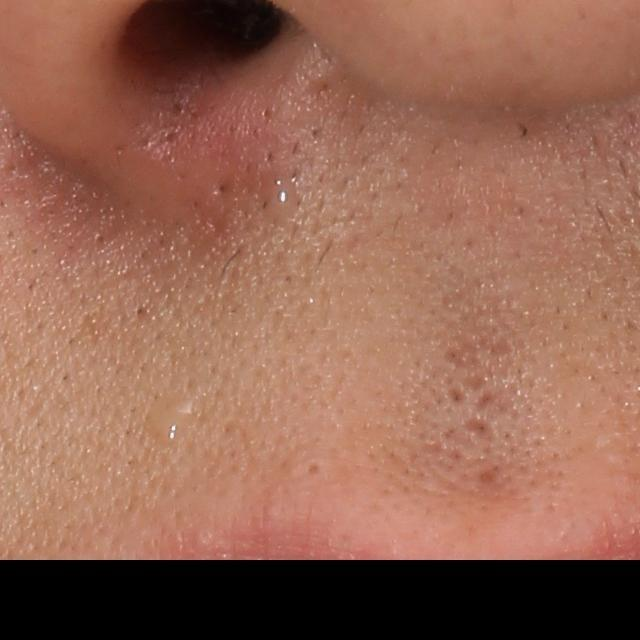atrophic_scar: (440, 328, 514, 407), (460, 417, 498, 444), (473, 388, 501, 411), (477, 469, 500, 485)
comedo: (303, 456, 325, 481)
